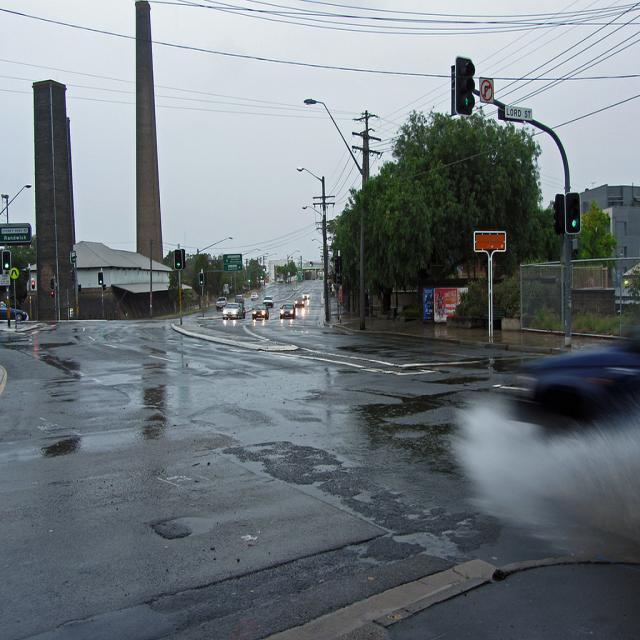traffic light: (453, 57, 476, 114), (566, 192, 582, 232), (175, 249, 183, 269), (95, 271, 104, 286)
